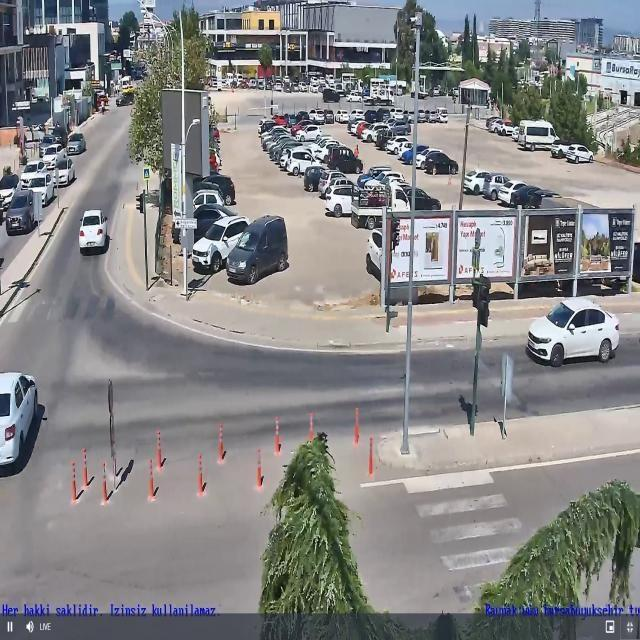Car: (525, 297, 620, 368), (226, 216, 289, 284), (0, 372, 40, 472), (191, 215, 253, 274), (192, 204, 240, 238), (5, 191, 37, 235), (78, 209, 109, 253), (197, 174, 236, 206), (323, 184, 359, 218), (394, 186, 441, 212), (22, 172, 56, 206), (361, 172, 408, 194), (326, 146, 362, 174), (285, 150, 321, 177), (318, 170, 352, 198), (366, 231, 385, 279), (19, 161, 52, 188), (497, 180, 529, 207), (422, 150, 458, 174), (303, 165, 335, 192), (0, 173, 20, 212), (484, 174, 511, 202), (192, 188, 226, 210), (52, 156, 76, 186), (357, 166, 391, 187), (464, 170, 492, 194), (416, 148, 446, 170), (511, 185, 538, 209), (41, 146, 67, 170), (564, 144, 594, 164), (401, 145, 431, 165), (191, 180, 224, 198), (294, 124, 326, 142), (376, 129, 404, 149), (315, 142, 343, 162), (37, 136, 61, 157), (363, 124, 391, 142), (551, 140, 577, 158), (387, 136, 409, 156), (67, 132, 86, 154), (290, 119, 316, 135), (388, 121, 411, 138), (497, 119, 517, 136), (115, 92, 135, 108), (348, 109, 366, 124), (398, 142, 414, 158), (308, 108, 326, 122), (270, 114, 288, 128), (438, 107, 450, 124), (336, 109, 350, 123), (365, 108, 379, 122), (323, 108, 335, 124), (378, 108, 392, 121), (425, 109, 438, 123), (346, 91, 362, 102), (286, 112, 297, 128), (391, 108, 404, 120), (488, 118, 499, 132), (296, 110, 309, 121), (405, 110, 415, 124), (418, 110, 427, 124), (450, 87, 461, 98), (512, 128, 520, 142), (298, 81, 308, 92), (309, 82, 319, 92), (434, 87, 441, 97)
Truck: (350, 185, 412, 230), (363, 88, 396, 105)
Van: (518, 120, 562, 151), (120, 74, 132, 90)
